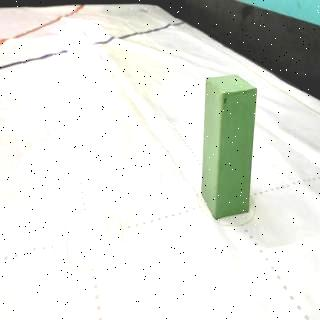greenbox: (202, 73, 258, 220)
